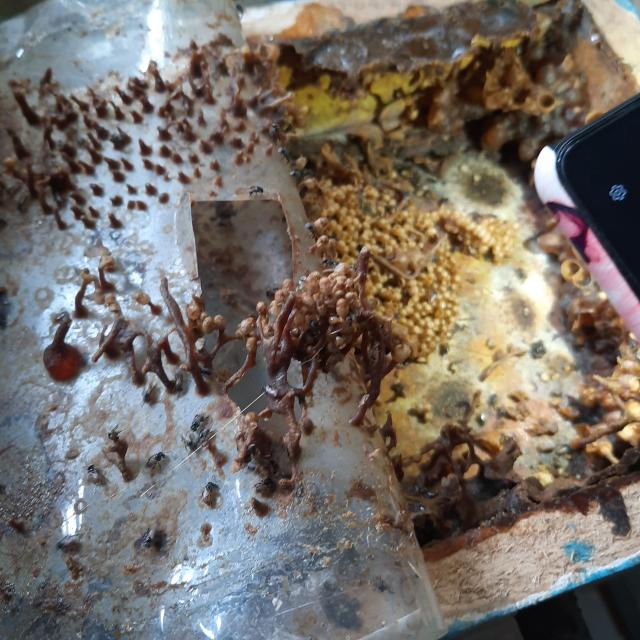honeybee: (140, 517, 170, 552), (137, 377, 160, 410), (167, 365, 193, 393), (101, 425, 131, 449), (188, 406, 208, 440), (144, 448, 170, 474), (194, 478, 220, 502), (314, 256, 343, 276), (266, 118, 286, 142), (178, 432, 199, 454), (87, 460, 104, 485), (272, 146, 291, 166), (248, 181, 266, 200), (262, 382, 282, 399), (286, 165, 305, 182), (306, 312, 319, 324)
